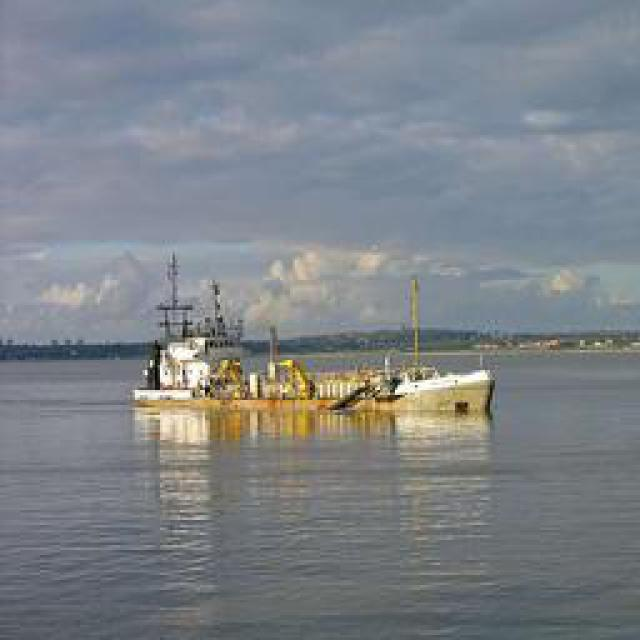Ship: (129, 285, 496, 420)
